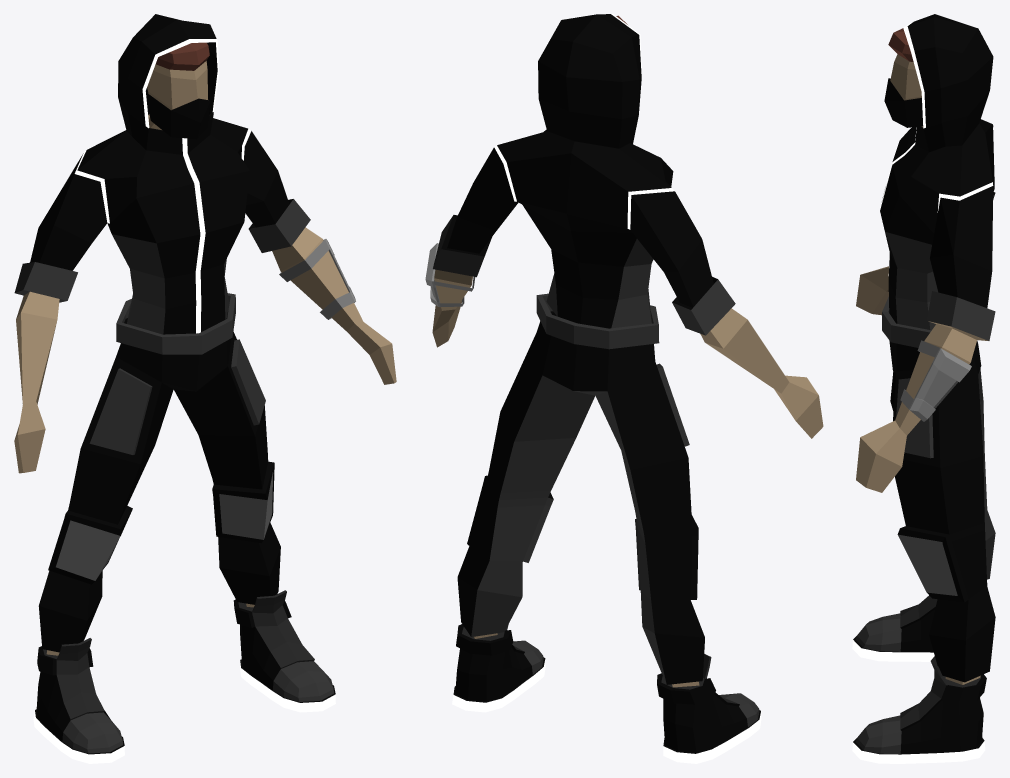
Rendered from LowPolyMan.fbx.
3 renders of one model, left to right at view 1: azimuth 30°, elevation 25°; view 2: azimuth 150°, elevation 25°; view 3: azimuth 270°, elevation 25°, orthographic. The views are drawn at different scales.
Visible parts, largest first — view 1: Body; view 2: Body; view 3: Body.
Part boxes in pixels (x1,y1,x2,y2): Body: (14, 14, 396, 763); Body: (425, 14, 823, 763); Body: (852, 14, 995, 763).
Bounding box in the file's own units: 115 × 202 × 38.34.
